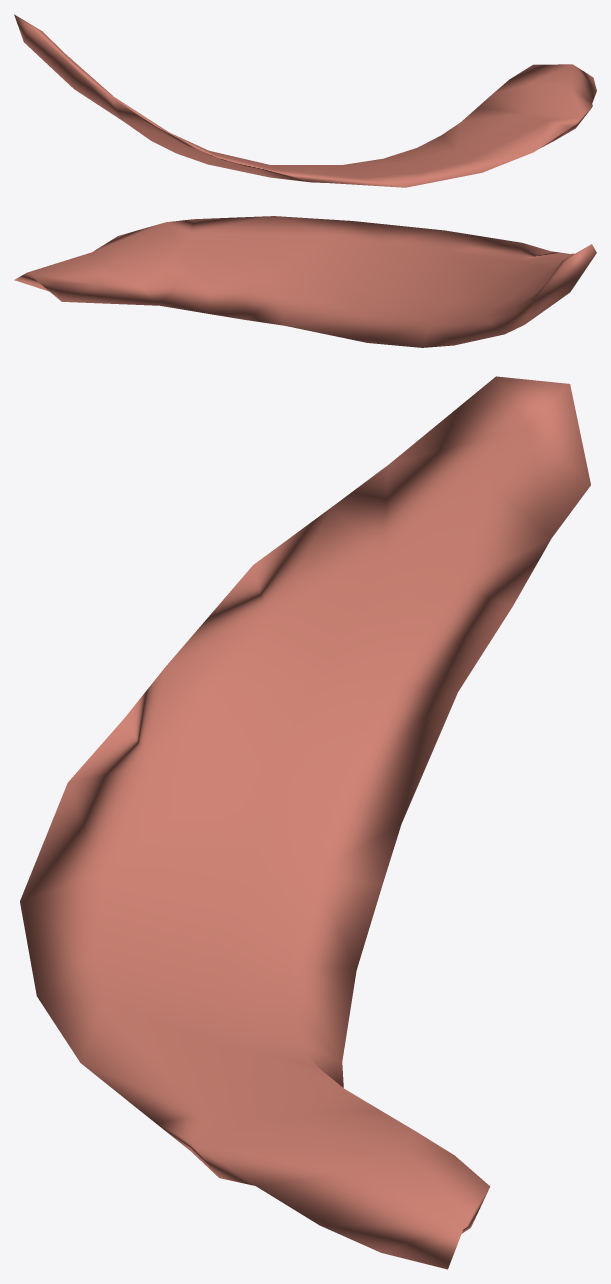
3 renders of one model, top to bottom at view 1: azimuth 30°, elevation 25°; view 2: azimuth 150°, elevation 25°; view 3: azimuth 270°, elevation 25°, orthographic. The views are drawn at different scales.
Visible parts, largest first — view 1: 右侧上睑板; view 2: 右侧上睑板; view 3: 右侧上睑板.
Part boxes in pixels (left/top/right/bottom): 右侧上睑板: left=14, top=14, right=596, bottom=187; 右侧上睑板: left=14, top=216, right=596, bottom=347; 右侧上睑板: left=20, top=376, right=590, bottom=1269.
Size of the model in its own units: 0.0376 by 0.0122 by 0.0169.
